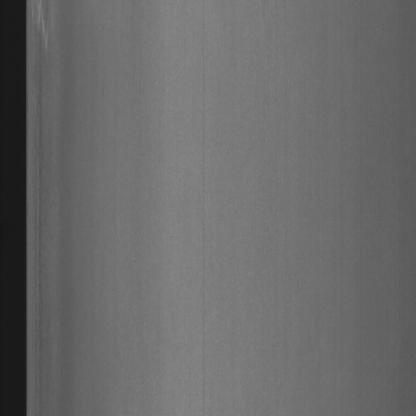silk_spot: (28, 0, 57, 96)
